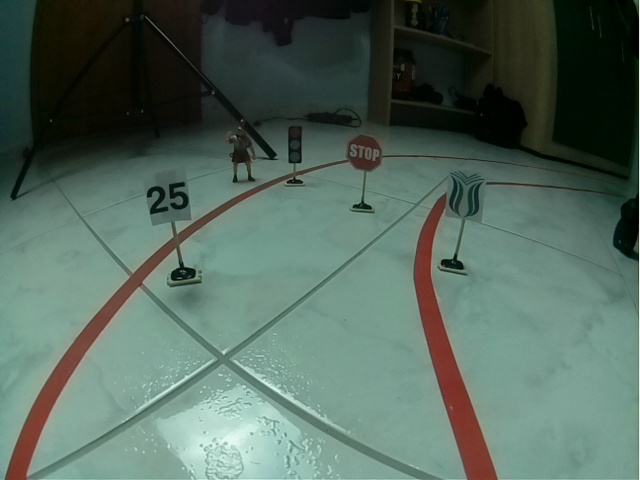Person: (225, 118, 257, 184)
Red Traffic Light: (288, 125, 302, 164)
Speed Limit 25: (143, 169, 192, 226)
Stop: (346, 134, 383, 173)
Subu: (444, 166, 487, 224)
